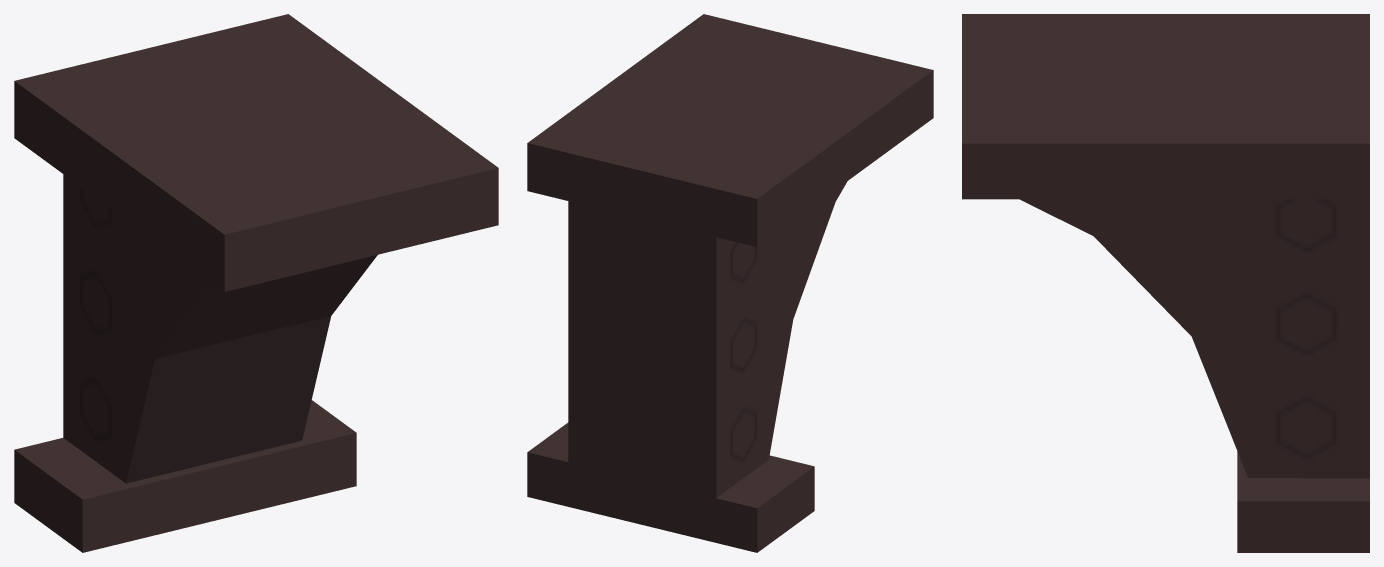
The model's file is SW_ENV_EL_TrackSupport_Extension_02.fbx.
The picture shows the model from 3 angles, left to right: view 1: azimuth 30°, elevation 25°; view 2: azimuth 150°, elevation 25°; view 3: azimuth 270°, elevation 25°; orthographic projection. The views are drawn at different scales.
Parts seen in each view (by area): view 1: SW_ENV_EL_TrackSupport_Extension_02; view 2: SW_ENV_EL_TrackSupport_Extension_02; view 3: SW_ENV_EL_TrackSupport_Extension_02.
Boxes of the visible parts, x1=… form: SW_ENV_EL_TrackSupport_Extension_02: x1=14, y1=14, x2=498, y2=552; SW_ENV_EL_TrackSupport_Extension_02: x1=527, y1=14, x2=933, y2=552; SW_ENV_EL_TrackSupport_Extension_02: x1=962, y1=14, x2=1369, y2=552.
Size of the model in its own units: 70 by 103 by 93.
